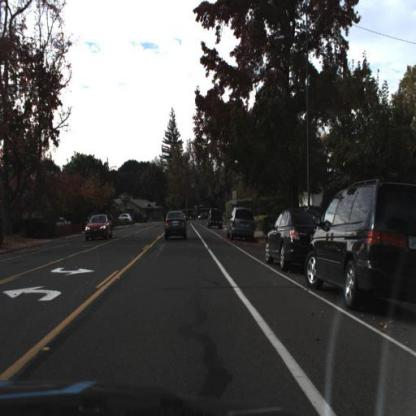car: (306, 182, 416, 320), (263, 205, 315, 273), (228, 210, 259, 246), (163, 207, 188, 240), (85, 216, 112, 243), (210, 204, 226, 230)
